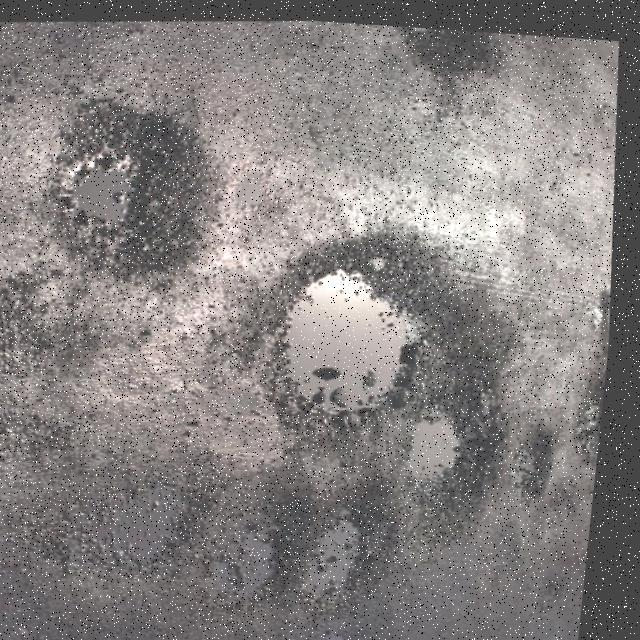pothole: (264, 232, 494, 438), (41, 89, 228, 283), (394, 372, 524, 516), (285, 498, 403, 614), (497, 398, 582, 502), (371, 19, 523, 72), (562, 361, 614, 492)
